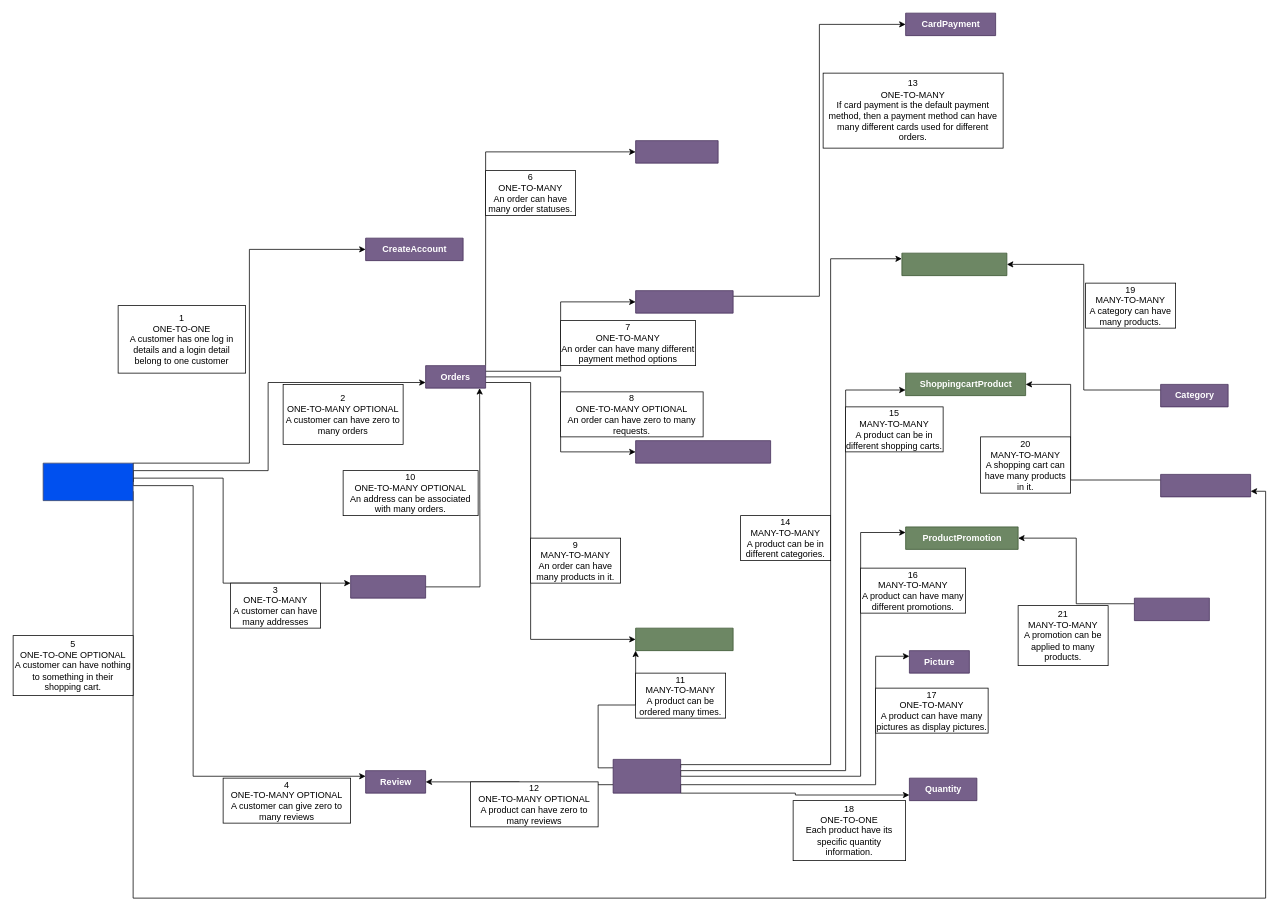
The diagram is 1285 pixels wide and 917 high, and some of its shapes have lost their labels. The centre of each missing label's shape, as x and y in pixels:
"Addresses" belongs at (x=388, y=586).
"ContactDetails" belongs at (x=87, y=481).
"OrdersProduct" belongs at (x=684, y=639).
"OrderStatus" belongs at (x=676, y=151).
"PaymentMethod" belongs at (x=684, y=301).
"Product" belongs at (x=646, y=776).
"ProductCategory" belongs at (x=954, y=264).
"Promotion" belongs at (x=1171, y=609).
"ReturnOrRefundRequest" belongs at (x=703, y=451).
"ShoppingCart" belongs at (x=1205, y=485).
